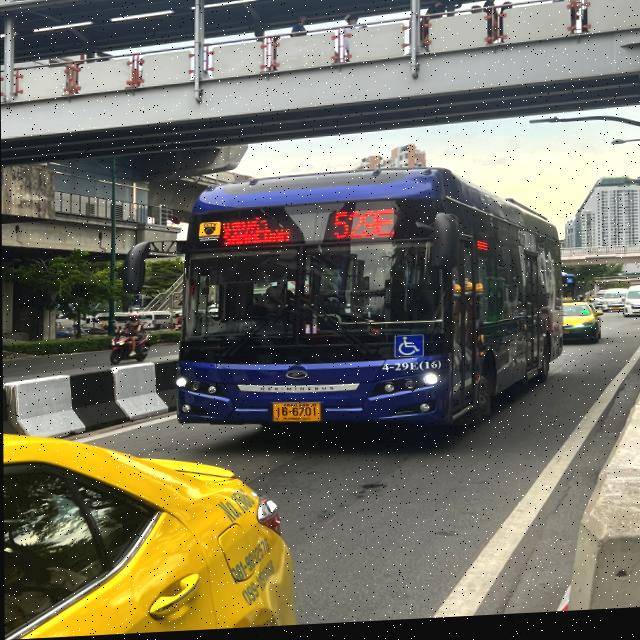Bus-Line-Number: (323, 208, 401, 246)
Destination-Sign-Normal: (213, 217, 297, 251)
TSB-Bus: (173, 162, 565, 444)
